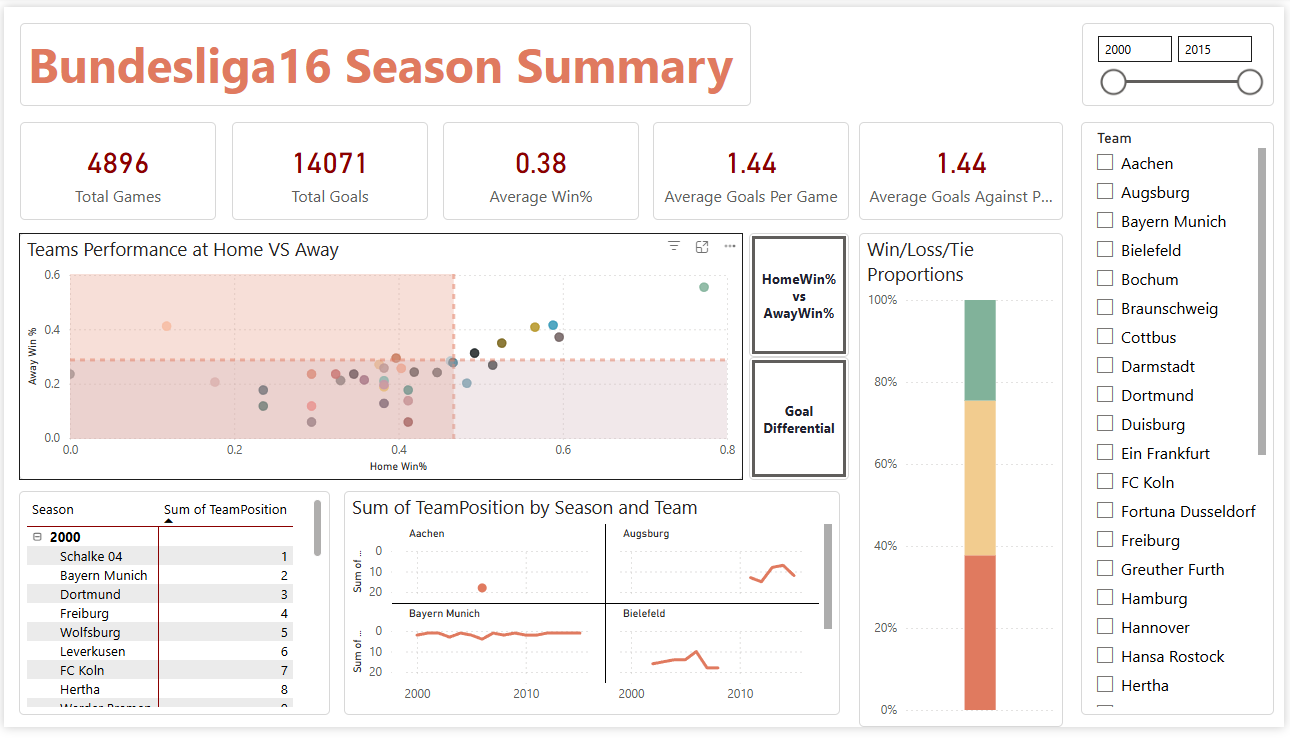

What the dashboard file says about the page in this screenshot:
{"tool":"powerbi","page":{"name":"Overall ","canvas":[1280,720],"ordinal":0},"visuals":[{"type":"textbox","box":[16,16,731,83],"z":0},{"type":"card","fields":{"Values":["Measure_Table.Total Games"]},"box":[16,115,196,98],"z":1000},{"type":"slicer","fields":{"Values":["football_stats_partitioned.Season"]},"box":[1077.8,15.6,192.2,83.3],"z":2000},{"type":"card","fields":{"Values":["Measure_Table.Total Goals"]},"box":[228,115,196,98],"z":3000},{"type":"card","fields":{"Values":["Measure_Table.Average Win%"]},"box":[439,115,196,98],"z":4000},{"type":"card","fields":{"Values":["Measure_Table.Average Goals Per Game"]},"box":[649,115,196,98],"z":5000},{"type":"slicer","fields":{"Values":["football_stats_partitioned.Team"]},"box":[1077.4,115,192.3,592.7],"z":6000},{"type":"card","fields":{"Values":["Measure_Table.Average Goals Against Per Game"]},"box":[855,115,204,98],"z":7000},{"type":"pivotTable","fields":{"Rows":["football_stats_partitioned.Season","football_stats_partitioned.Team"],"Values":["Sum(football_stats_partitioned.TeamPosition)"]},"box":[15,484,311,224],"z":8000},{"type":"hundredPercentStackedColumnChart","title":"Win/Loss/Tie Proportions","fields":{"Y":["Sum(football_stats_partitioned.Win)","Sum(football_stats_partitioned.Loss)","Sum(football_stats_partitioned.Tie)"]},"box":[855,226,204,494],"z":9000},{"type":"scatterChart","title":"Teams Performance at Home VS Away ","fields":{"Series":["football_stats_partitioned.Team"],"X":["Measure_Table.Home Win%"],"Y":["Measure_Table.Away Win %"]},"box":[15,226,724,247],"z":10000},{"type":"lineChart","fields":{"Category":["football_stats_partitioned.Season"],"Y":["Sum(football_stats_partitioned.TeamPosition)"],"Rows":["football_stats_partitioned.Team"]},"box":[340,484,496,224],"z":11000},{"type":"actionButton","box":[745,226,100,124],"z":12000},{"type":"actionButton","box":[745,350,100,123],"z":13000}]}

Visuals, with their boxes in screenshot pixels (x1, y1, x2, y2), scaled from the page's 1280x720 canvas onto the 1290x738 screenshot:
textbox: 16,16,753,101
card - Measure_Table.Total Games: 16,118,214,218
slicer - football_stats_partitioned.Season: 1086,16,1280,101
card - Measure_Table.Total Goals: 230,118,427,218
card - Measure_Table.Average Win%: 442,118,640,218
card - Measure_Table.Average Goals Per Game: 654,118,852,218
slicer - football_stats_partitioned.Team: 1086,118,1280,725
card - Measure_Table.Average Goals Against Per Game: 862,118,1067,218
pivotTable - football_stats_partitioned.Season x football_stats_partitioned.Team: 15,496,329,726
"Win/Loss/Tie Proportions" hundredPercentStackedColumnChart: 862,232,1067,737
"Teams Performance at Home VS Away " scatterChart: 15,232,745,485
lineChart - football_stats_partitioned.Season x Sum(football_stats_partitioned.TeamPosition): 343,496,843,726
actionButton: 751,232,852,359
actionButton: 751,359,852,485
